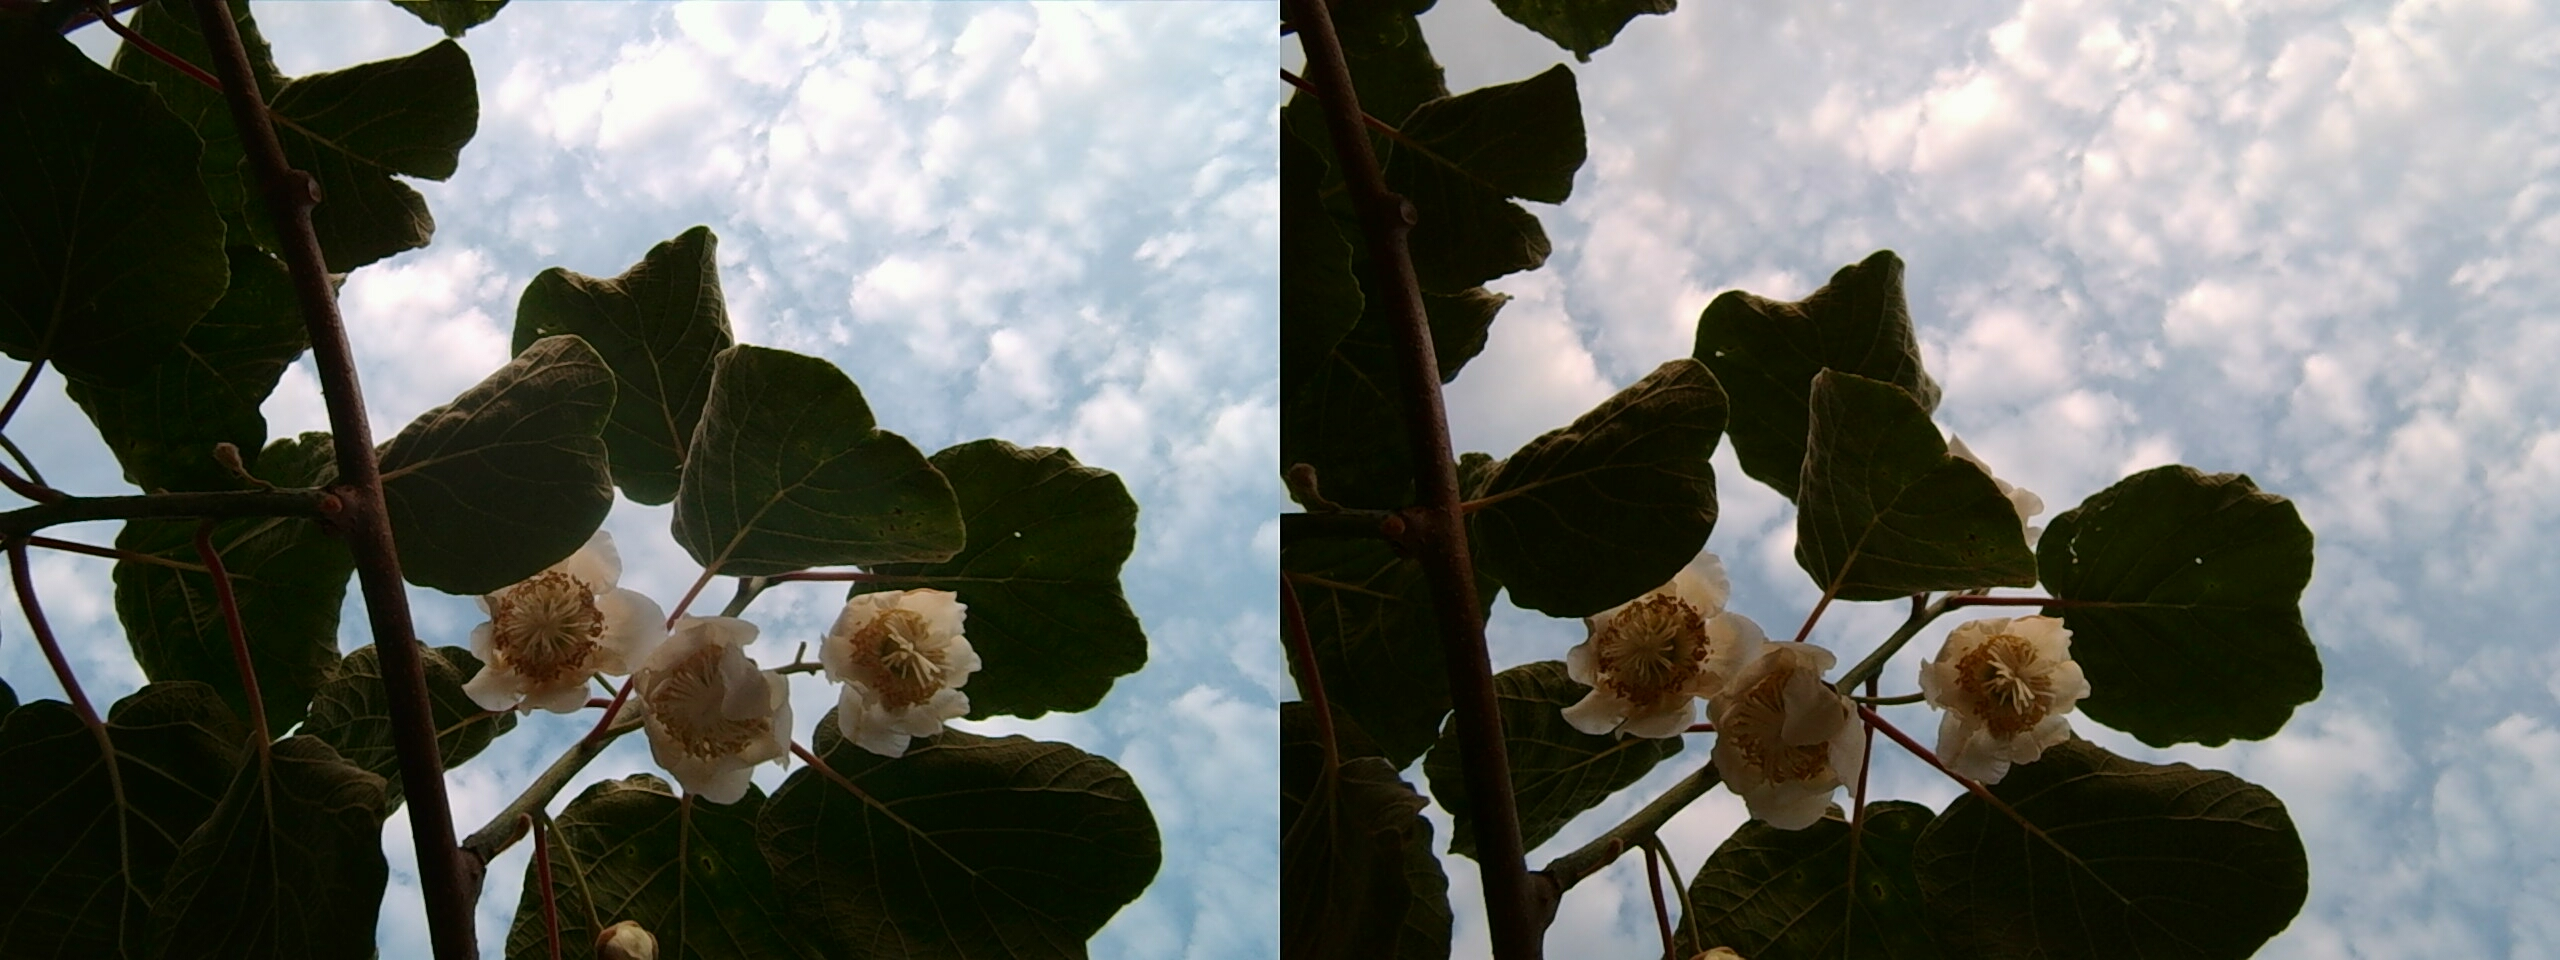flower: (1556, 552, 1757, 741), (452, 529, 655, 710), (606, 606, 797, 797), (1698, 632, 1858, 820), (1910, 602, 2087, 767), (811, 578, 983, 744)
